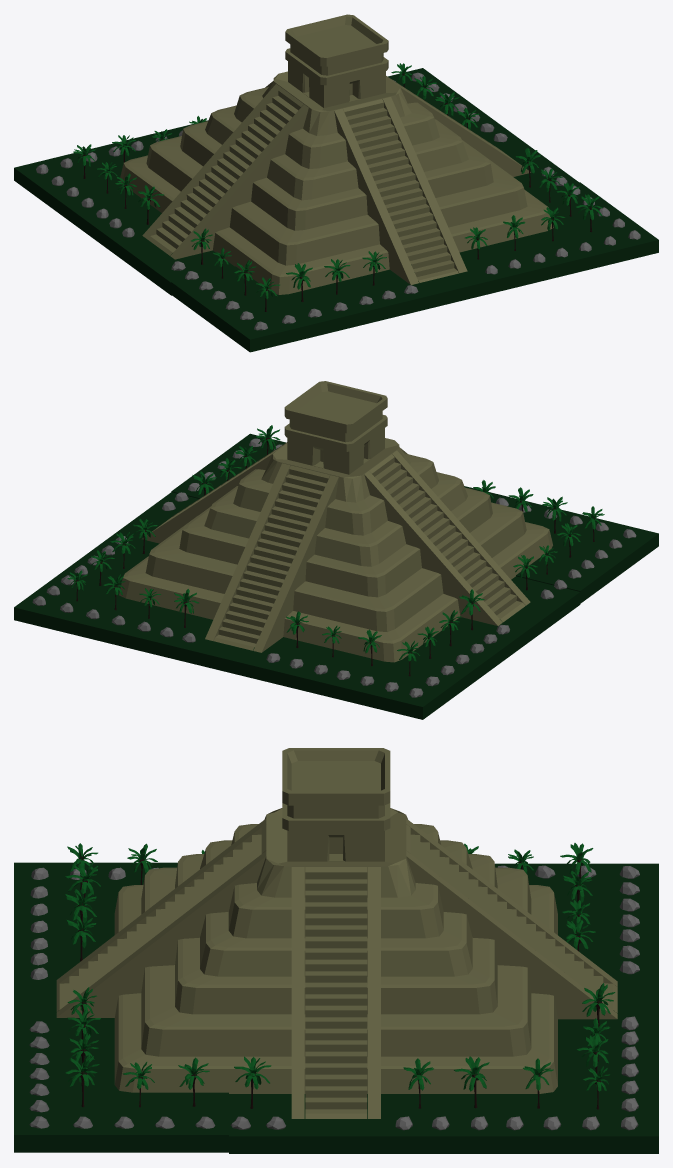
The model's file is Actec.FBX.
The picture shows the model from 3 angles, top to bottom: view 1: azimuth 30°, elevation 25°; view 2: azimuth 150°, elevation 25°; view 3: azimuth 270°, elevation 25°; orthographic projection. The views are drawn at different scales.
Parts seen in each view (by area): view 1: actek; view 2: actek; view 3: actek.
Part boxes in pixels (left/top/right/bottom): actek: left=14, top=14, right=658, bottom=352; actek: left=14, top=381, right=658, bottom=719; actek: left=14, top=748, right=658, bottom=1153.
Size of the model in its own units: 30000 by 12669 by 30000.
